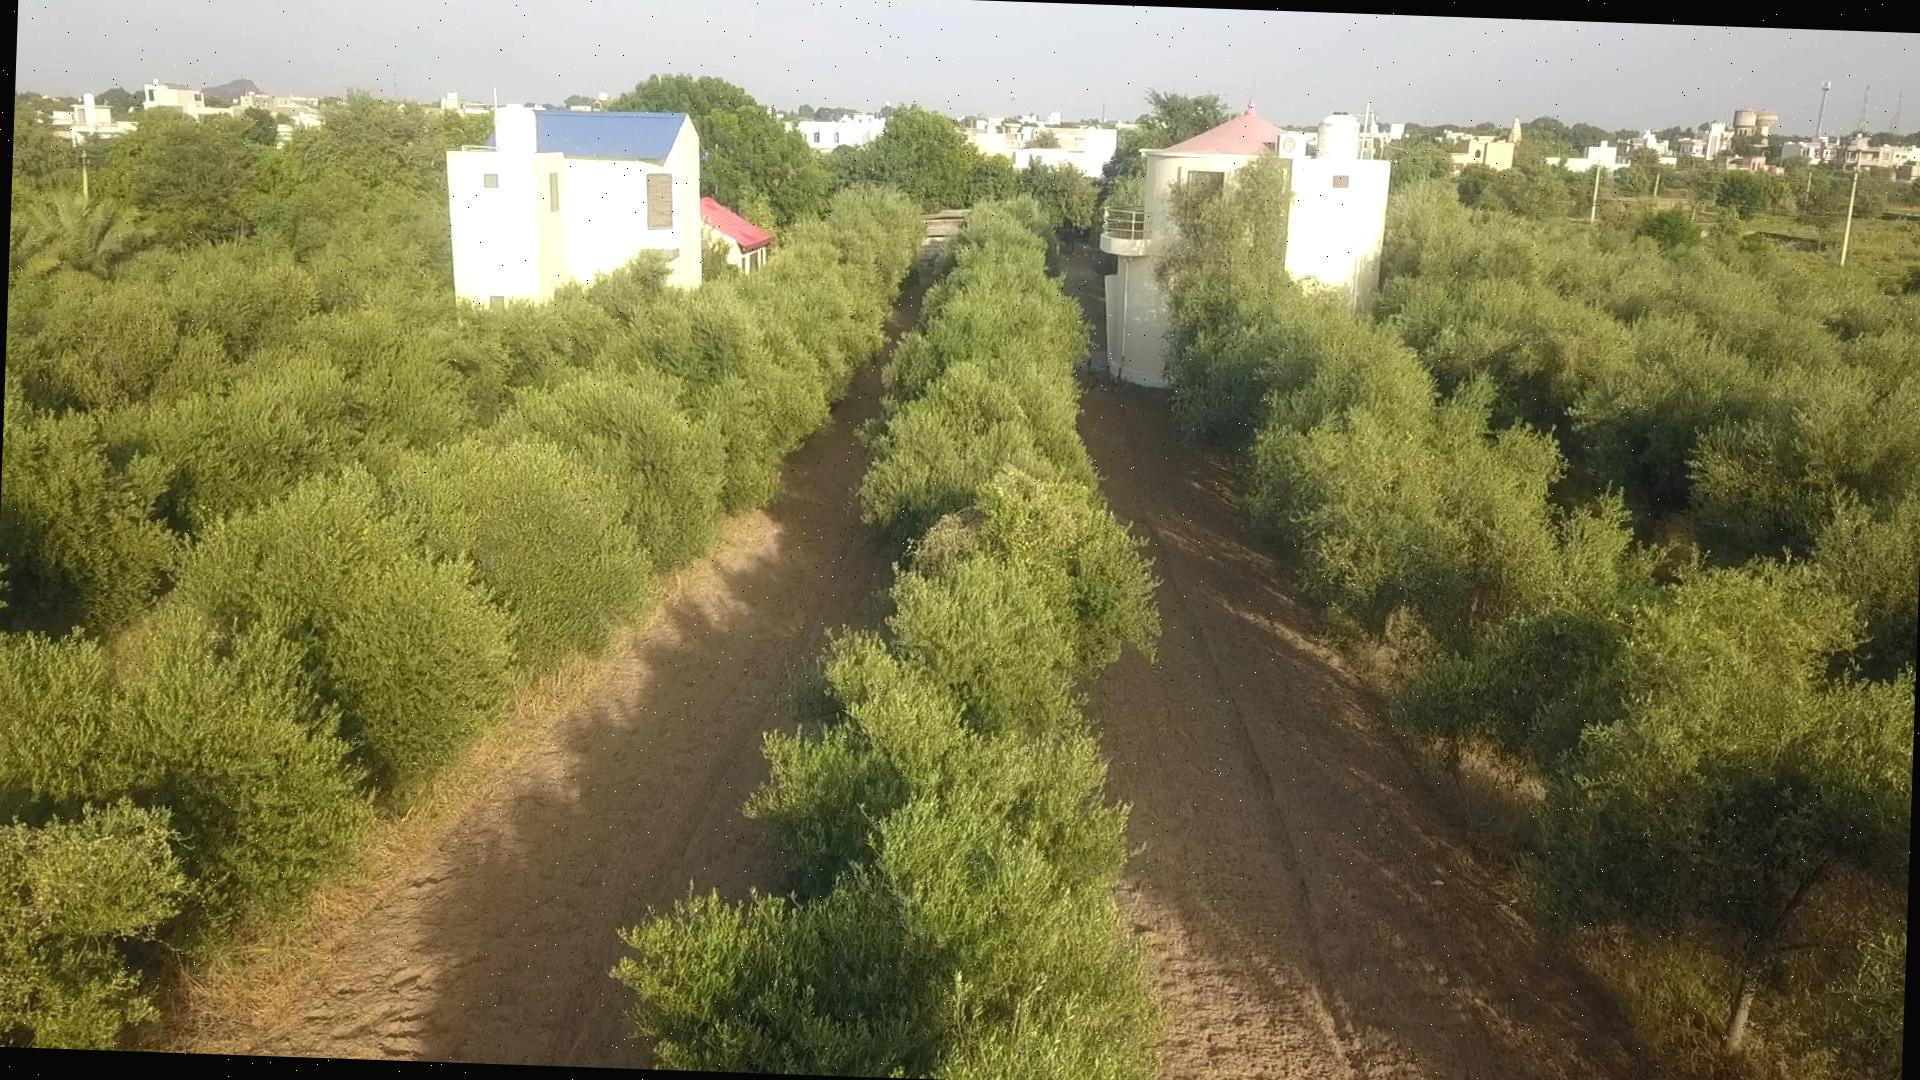canopy: (0, 187, 923, 1050), (1174, 264, 1915, 1050), (615, 202, 1160, 1080), (0, 244, 729, 630), (1387, 277, 1920, 663)
road: (222, 369, 890, 1065), (1079, 392, 1553, 1080)
